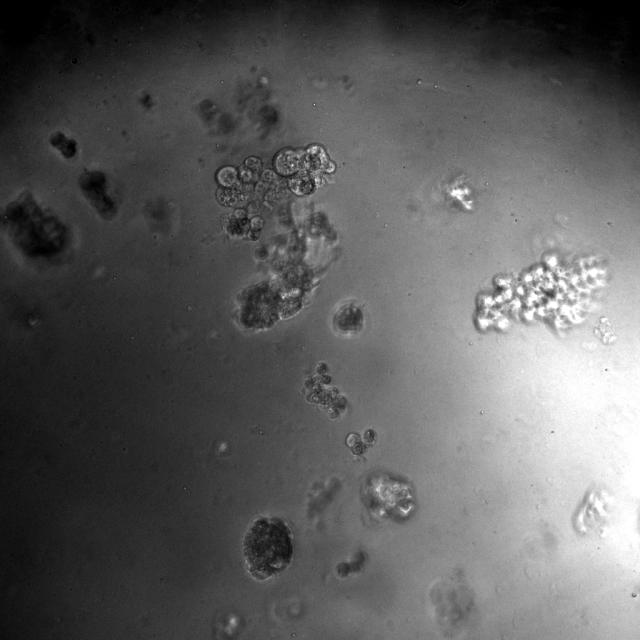organoid: (215, 143, 339, 332), (474, 253, 606, 334), (3, 192, 70, 257), (242, 516, 293, 581), (360, 469, 417, 523), (300, 363, 346, 418), (78, 168, 118, 220), (329, 298, 368, 338), (334, 549, 367, 579), (346, 427, 377, 457), (50, 131, 76, 158), (594, 317, 617, 345)
